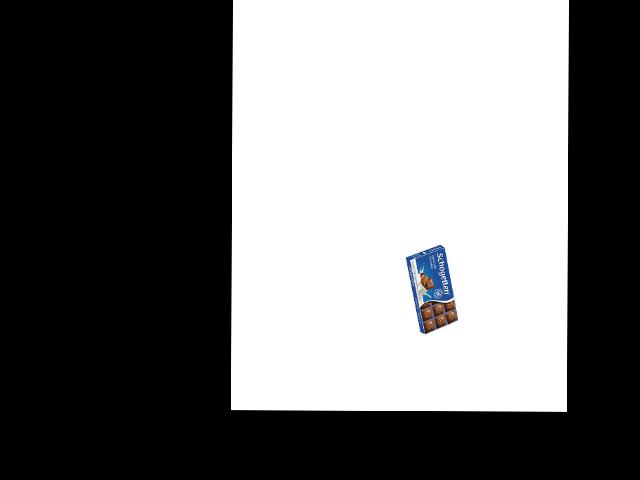chocolate: (412, 243, 458, 335)
